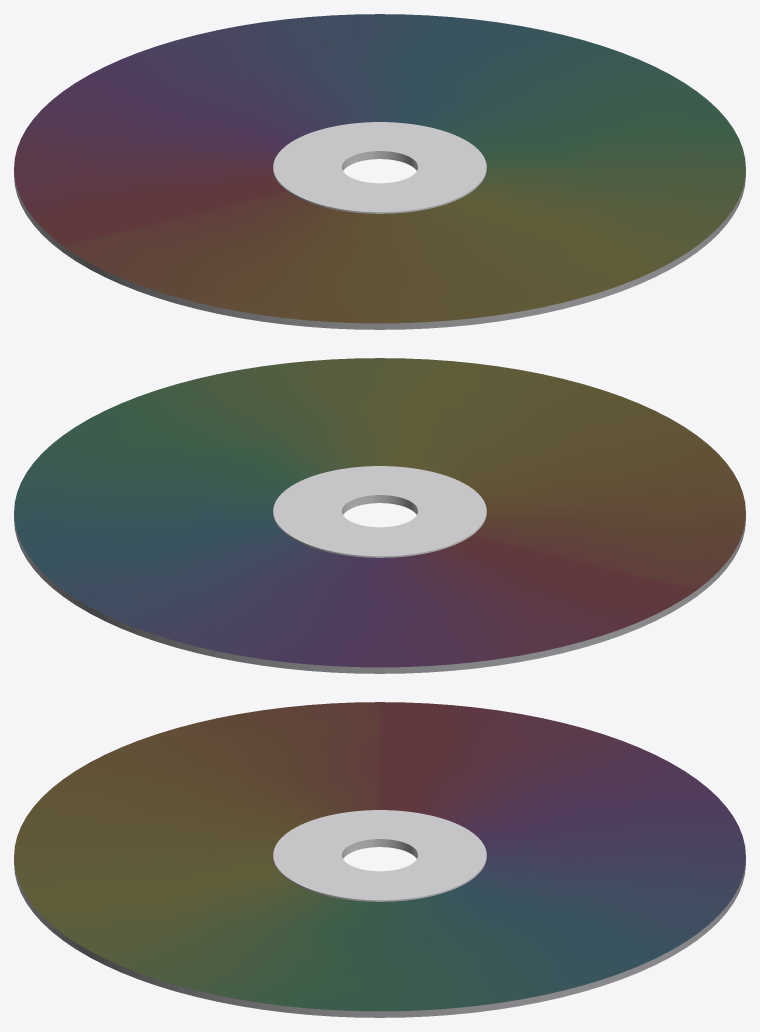
The model's file is dvd-disc.glb.
3 renders of one model, top to bottom at view 1: azimuth 30°, elevation 25°; view 2: azimuth 150°, elevation 25°; view 3: azimuth 270°, elevation 25°, orthographic.
Parts seen in each view (by area): view 1: DVD_Disc; view 2: DVD_Disc; view 3: DVD_Disc.
Part boxes in pixels (x1,y1,x2,y2): DVD_Disc: (14,14,745,329); DVD_Disc: (14,358,745,673); DVD_Disc: (14,702,745,1017).
Bounding box in the file's own units: 0.144 × 0.00175 × 0.144.
Materials: 4 (1 with a texture image).
